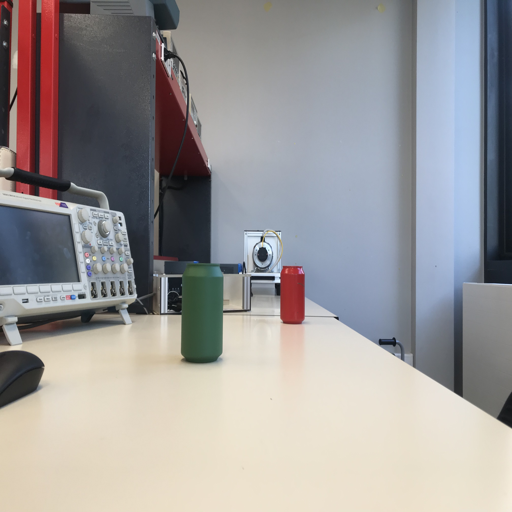Green_Can: (179, 261, 224, 363)
Red_Can: (279, 264, 305, 324)
